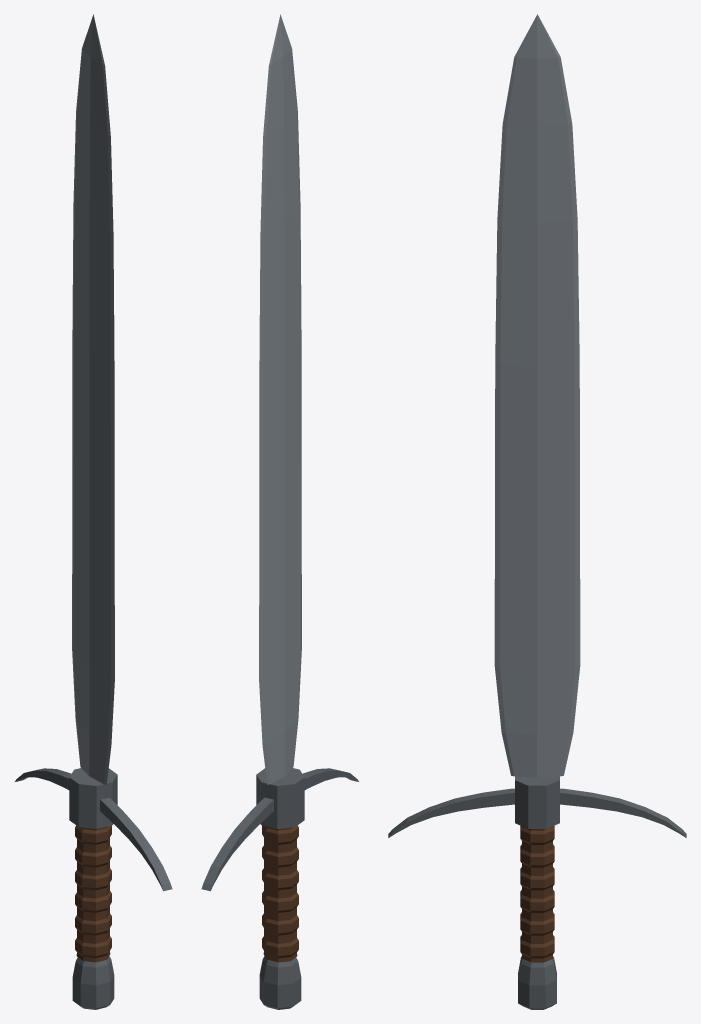
File: WP_Sword_04.glb
3 views of the same model, side by side, from view 1: azimuth 30°, elevation 25°; view 2: azimuth 150°, elevation 25°; view 3: azimuth 270°, elevation 25° (orthographic).
Visible parts, largest first — view 1: WP_Sword_04; view 2: WP_Sword_04; view 3: WP_Sword_04.
Part boxes in pixels (x1,y1,x2,y2): WP_Sword_04: (15, 14, 172, 1009); WP_Sword_04: (201, 14, 358, 1009); WP_Sword_04: (388, 14, 686, 1009).
Size of the model in its own units: 0.0425 by 1.03 by 0.282.
